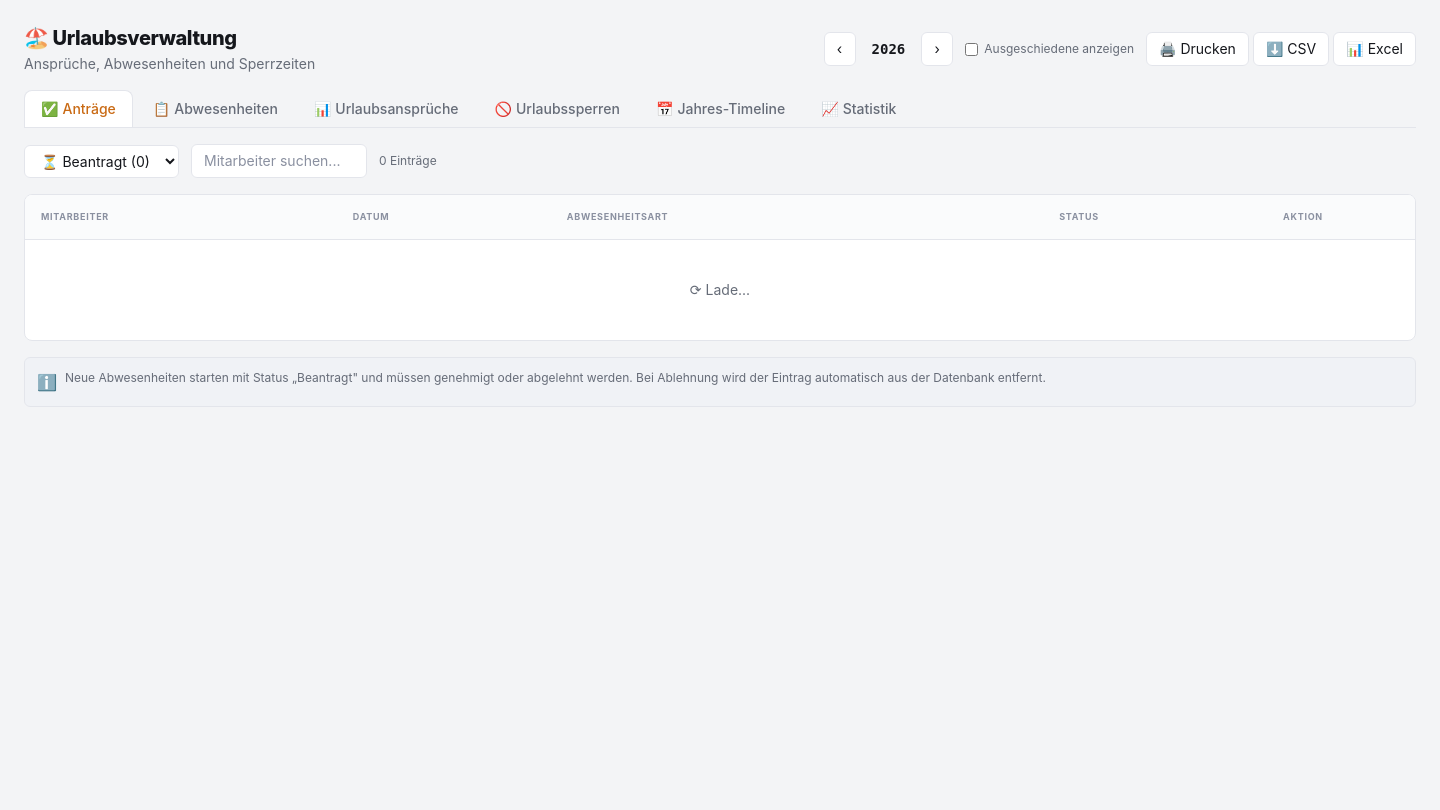
Scenario: Urlaub — WABSENCES-Gating (G-1) › mit wabsences: direkte Erfassung „＋ Abwesenheit" im Abwesenheiten-Tab
Click the button "📋 Abwesenheiten". click: (215, 108)
box: [137,90,294,127]
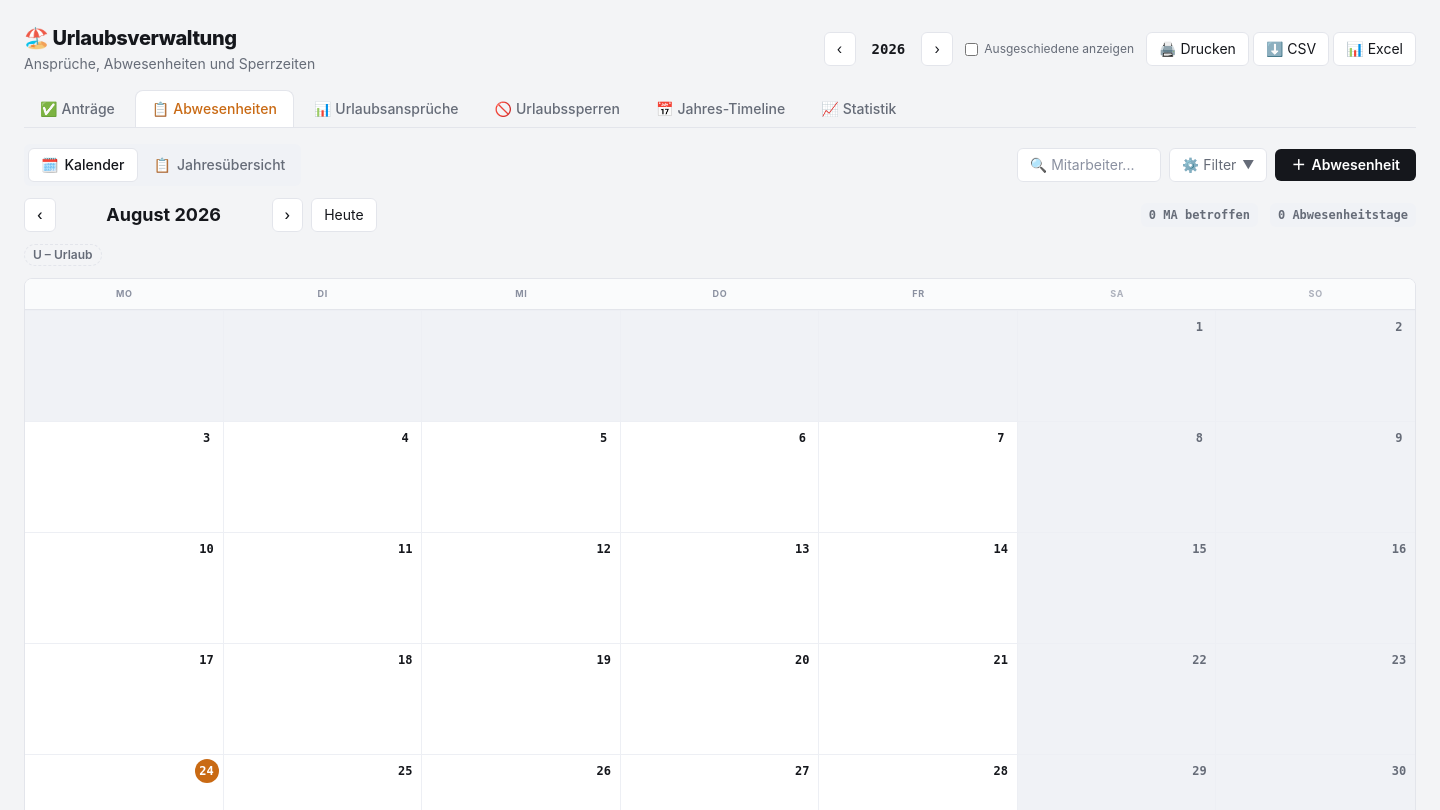
Now the text "Abwesenheit" is shown, box [1312,155,1400,175]
